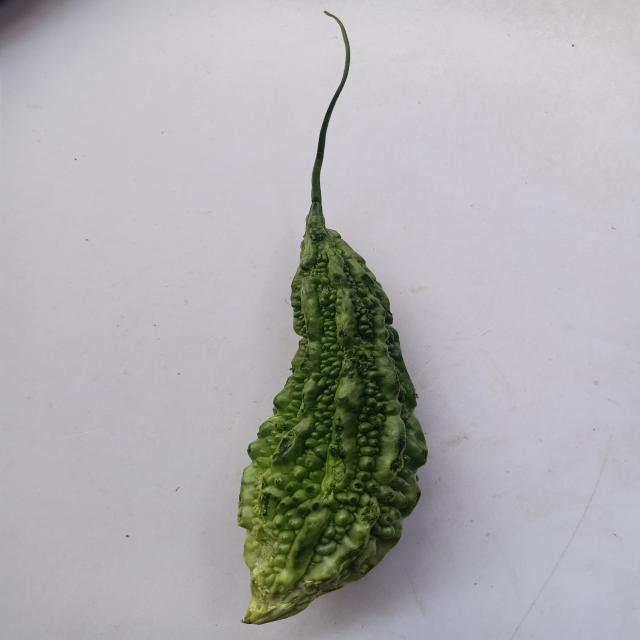Bitter Gourd: (222, 0, 438, 634)
